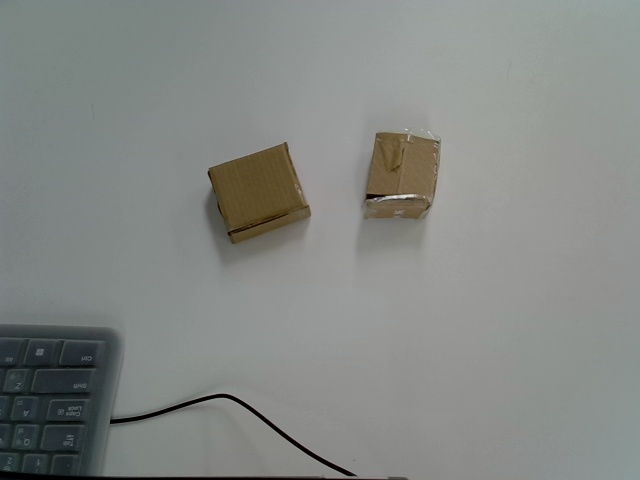defect: (362, 128, 442, 222)
normal: (207, 142, 314, 245)
